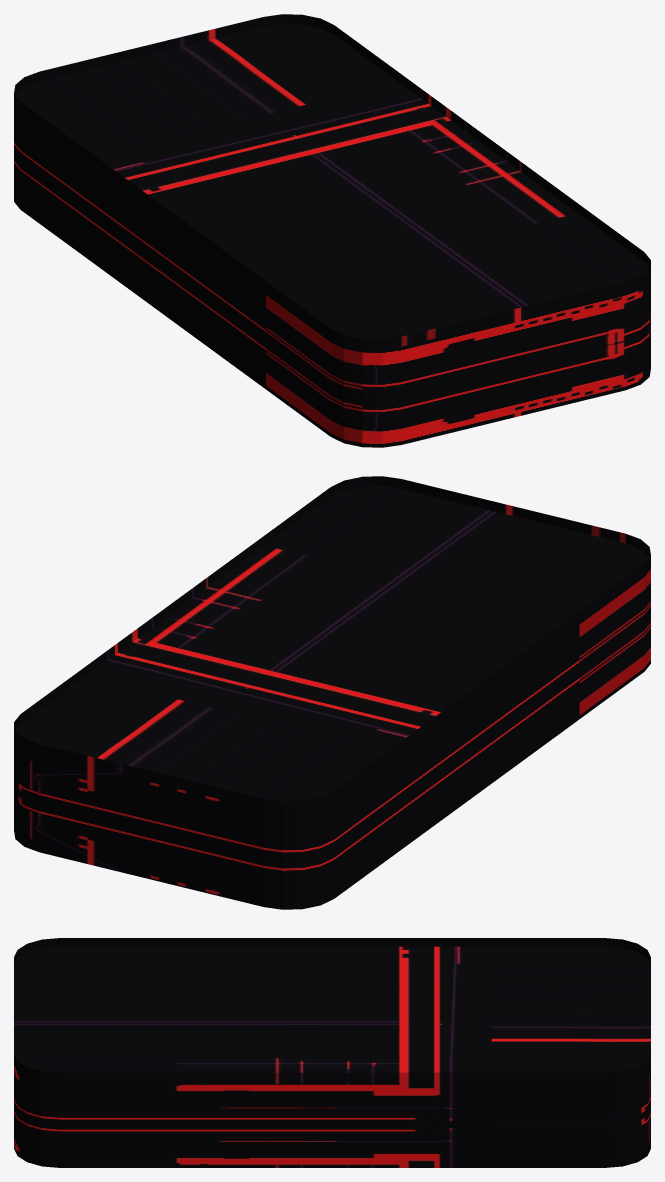
The model's file is tronStadium2.glb.
3 views of the same model, one above another, from view 1: azimuth 30°, elevation 25°; view 2: azimuth 150°, elevation 25°; view 3: azimuth 270°, elevation 25° (orthographic). The views are drawn at different scales.
Parts seen in each view (by area): view 1: Cube; view 2: Cube; view 3: Cube.
Part boxes in pixels (bbox=[...]): Cube: bbox=[14, 14, 650, 447]; Cube: bbox=[14, 476, 650, 909]; Cube: bbox=[14, 938, 650, 1167].
Size of what is drawn, in the model's own units: 2 by 0.6602 by 4.
1 material, 1 textured.
